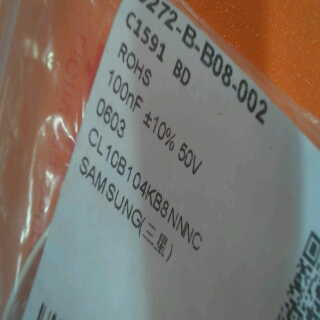100nF: (100, 65, 145, 116)
